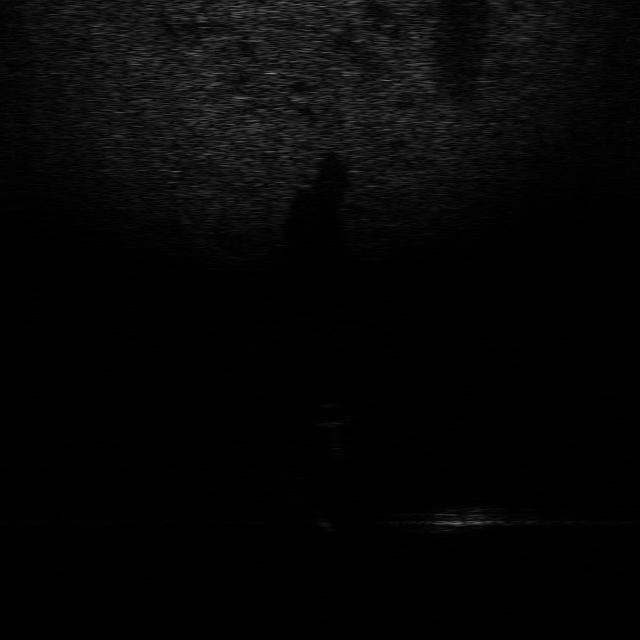ball: (304, 398, 358, 431)
metal bucket: (415, 502, 520, 536)
tyre: (310, 503, 359, 538)
